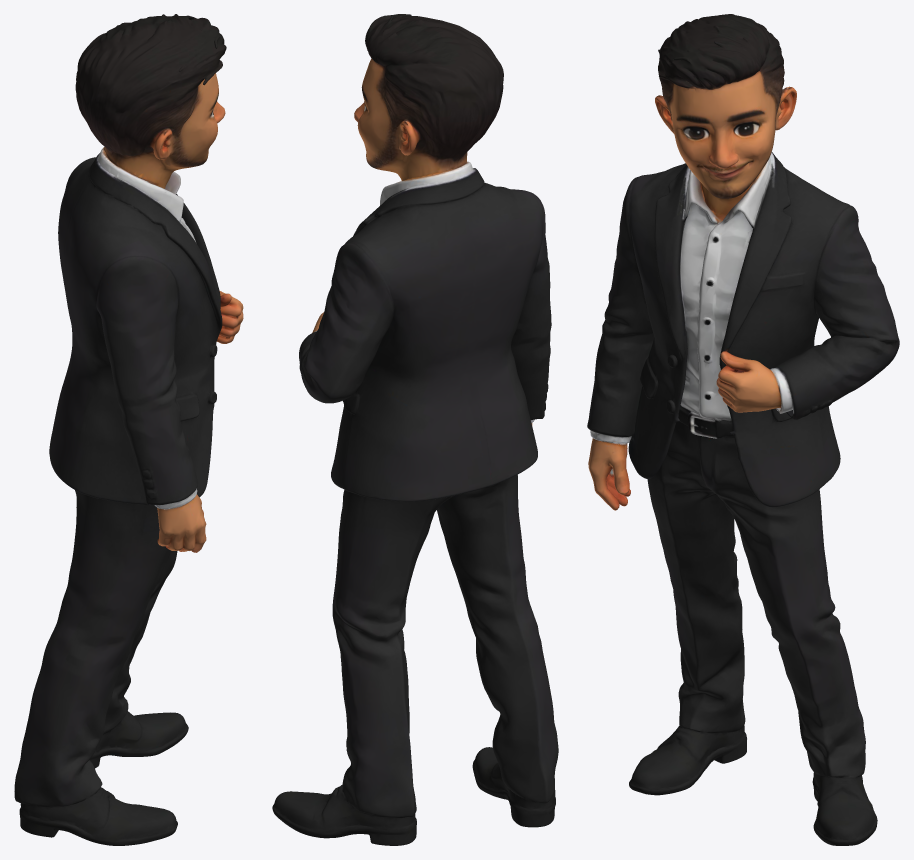
File: JCC.glb
The picture shows the model from 3 angles, left to right: view 1: azimuth 30°, elevation 25°; view 2: azimuth 150°, elevation 25°; view 3: azimuth 270°, elevation 25°; orthographic projection. The views are drawn at different scales.
Visible parts, largest first — view 1: tripo_node_9fdde558-adab-46df-af04-8dda421433ca; view 2: tripo_node_9fdde558-adab-46df-af04-8dda421433ca; view 3: tripo_node_9fdde558-adab-46df-af04-8dda421433ca.
Part boxes in pixels (bbox=[...]): tripo_node_9fdde558-adab-46df-af04-8dda421433ca: bbox=[14, 14, 243, 845]; tripo_node_9fdde558-adab-46df-af04-8dda421433ca: bbox=[272, 14, 558, 845]; tripo_node_9fdde558-adab-46df-af04-8dda421433ca: bbox=[587, 14, 899, 845].
Bounding box in the file's own units: 0.3081 × 1 × 0.36.
Materials: 1 (1 with a texture image).
